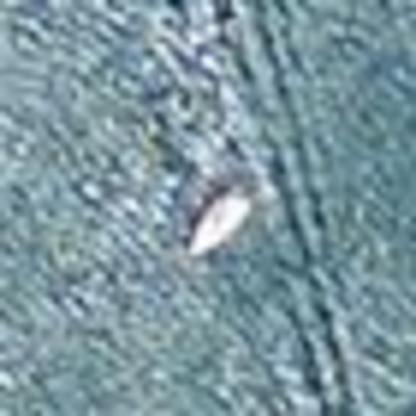ship: (172, 179, 257, 260)
